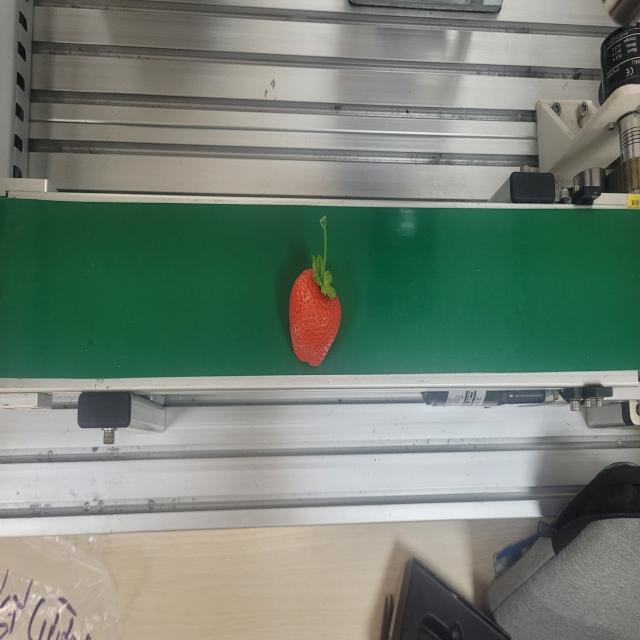Large Ripe Strawberry: (287, 213, 343, 368)
conveyor: (0, 195, 640, 389)
